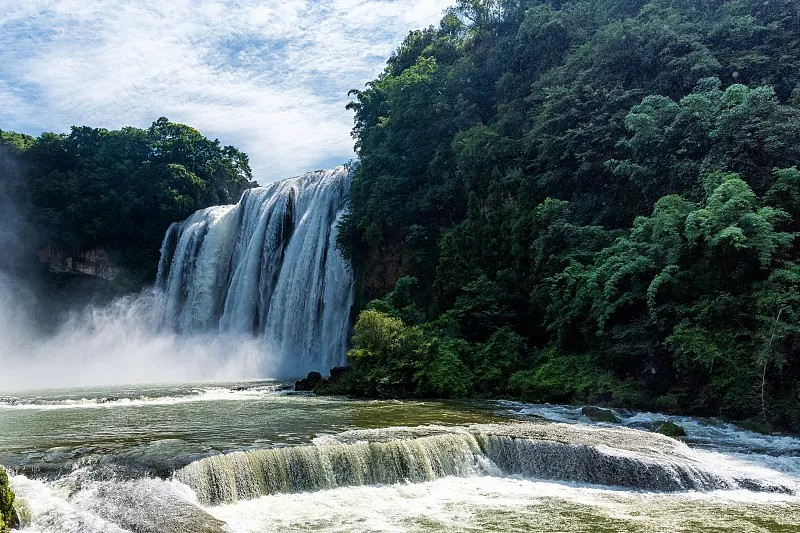Huangguoshu: (154, 161, 352, 377)
